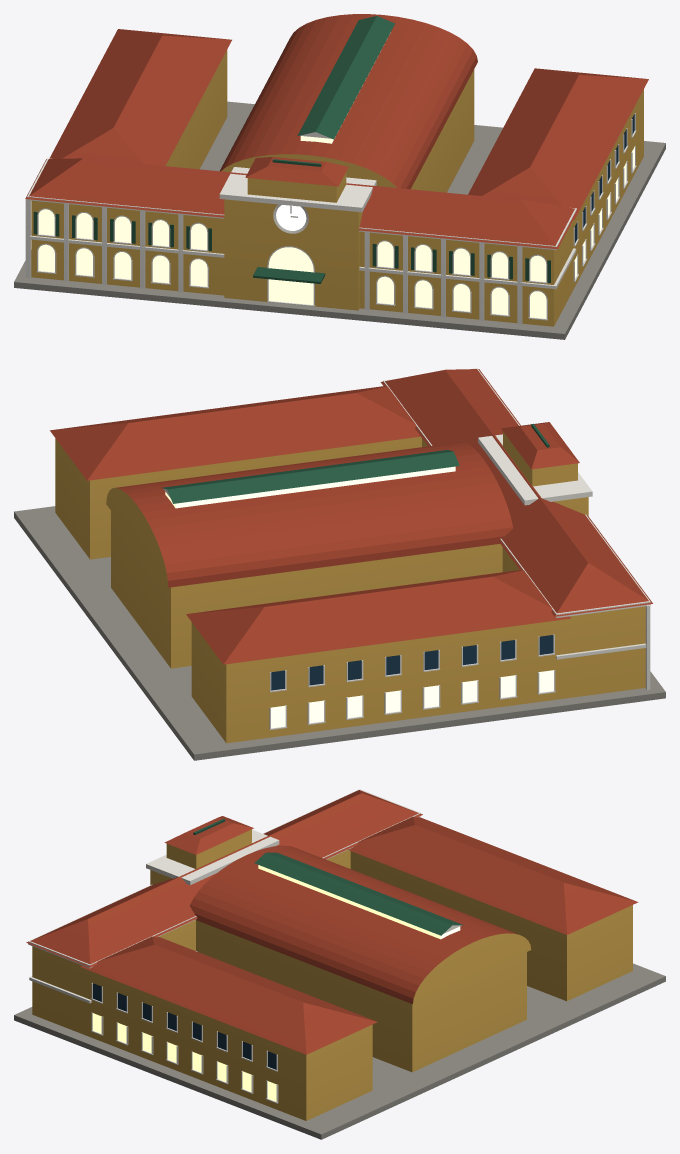
Rendered from buu_dien_trung_tam.glb.
3 views of the same model, one above another, from view 1: azimuth 30°, elevation 25°; view 2: azimuth 150°, elevation 25°; view 3: azimuth 270°, elevation 25° (orthographic). The views are drawn at different scales.
Visible parts, largest first — view 1: buu_dien_trung_tam; view 2: buu_dien_trung_tam; view 3: buu_dien_trung_tam.
Boxes of the visible parts, x1,y1,x2,y2 form: buu_dien_trung_tam: [14, 14, 665, 339]; buu_dien_trung_tam: [14, 368, 665, 760]; buu_dien_trung_tam: [14, 789, 665, 1139].
Bounding box in the file's own units: 101 × 21 × 99.91.
